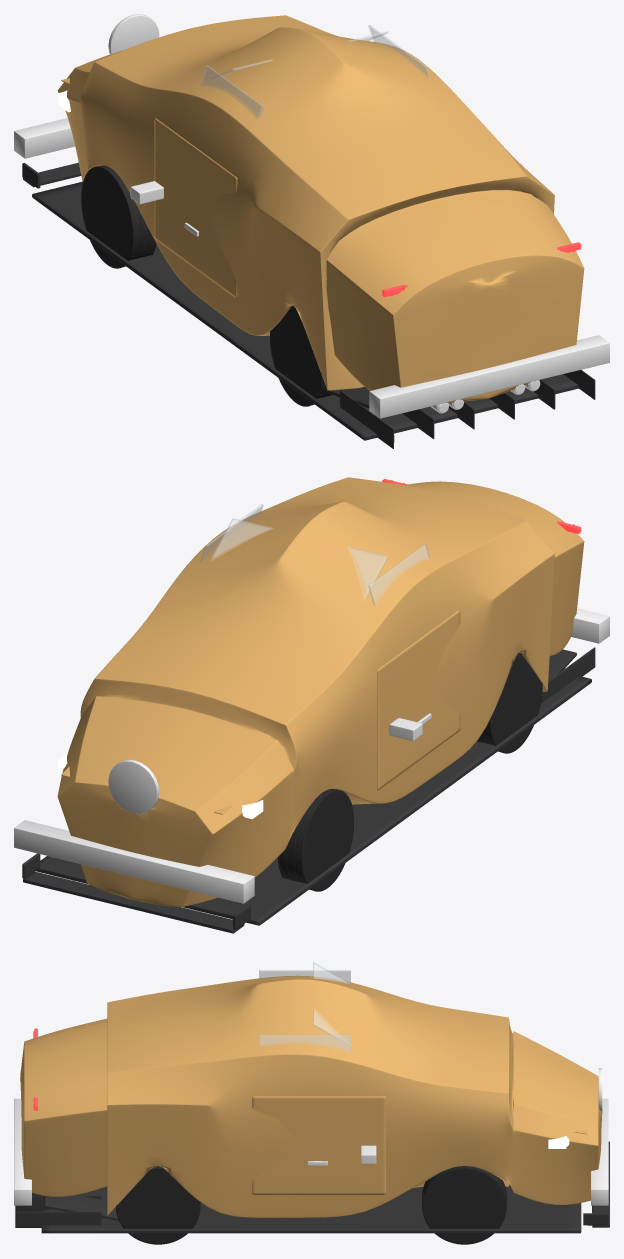
Rendered from Car_Volkswagen_T2_BayWindow_1970s_Complete.glb.
The picture shows the model from 3 angles, top to bottom: view 1: azimuth 30°, elevation 25°; view 2: azimuth 150°, elevation 25°; view 3: azimuth 270°, elevation 25°; orthographic projection. The views are drawn at different scales.
Parts seen in each view (by area): view 1: BODY_MainShell, UNDERBODY_FlatFloor, BODY_Door_FL, JEWELRY_T2_RearBumper, WHEEL_FL_Tire, WHEEL_RL_Tire, GLASS_Greenhouse, JEWELRY_T2_FrontBumper, JEWELRY_T2_VWEmblem, JEWELRY_Hardware, AERO_FrontSplitter; view 2: BODY_MainShell, UNDERBODY_FlatFloor, BODY_Door_FL, JEWELRY_T2_FrontBumper, WHEEL_FL_Tire, GLASS_Greenhouse, WHEEL_RL_Tire, AERO_FrontSplitter, JEWELRY_T2_VWEmblem, JEWELRY_T2_RearBumper, JEWELRY_Hardware; view 3: BODY_MainShell, UNDERBODY_FlatFloor, BODY_Door_FR, WHEEL_FR_Tire, WHEEL_RR_Tire, GLASS_Greenhouse, JEWELRY_T2_FrontBumper, JEWELRY_T2_RearBumper, AERO_FrontSplitter, JEWELRY_Hardware.
Boxes of the visible parts, <box> form: BODY_MainShell: <box>57,15,584,402</box>; UNDERBODY_FlatFloor: <box>32,181,595,448</box>; BODY_Door_FL: <box>154,117,237,298</box>; JEWELRY_T2_RearBumper: <box>369,335,609,418</box>; WHEEL_FL_Tire: <box>81,165,156,268</box>; WHEEL_RL_Tire: <box>269,306,332,406</box>; GLASS_Greenhouse: <box>200,25,429,119</box>; JEWELRY_T2_FrontBumper: <box>14,118,74,158</box>; JEWELRY_T2_VWEmblem: <box>108,14,159,54</box>; JEWELRY_Hardware: <box>130,181,540,413</box>; AERO_FrontSplitter: <box>22,162,81,188</box>; BODY_MainShell: <box>57,477,584,906</box>; UNDERBODY_FlatFloor: <box>35,647,595,925</box>; BODY_Door_FL: <box>377,609,460,790</box>; JEWELRY_T2_FrontBumper: <box>14,820,254,903</box>; WHEEL_FL_Tire: <box>277,789,353,891</box>; GLASS_Greenhouse: <box>200,504,429,605</box>; WHEEL_RL_Tire: <box>477,653,542,753</box>; AERO_FrontSplitter: <box>22,853,250,933</box>; JEWELRY_T2_VWEmblem: <box>108,759,159,813</box>; JEWELRY_T2_RearBumper: <box>571,608,609,643</box>; JEWELRY_Hardware: <box>389,713,431,741</box>; BODY_MainShell: <box>20,975,601,1217</box>; UNDERBODY_FlatFloor: <box>15,1184,581,1233</box>; BODY_Door_FR: <box>252,1096,385,1194</box>; WHEEL_FR_Tire: <box>422,1166,506,1244</box>; WHEEL_RR_Tire: <box>115,1165,200,1244</box>; GLASS_Greenhouse: <box>259,962,351,1052</box>; JEWELRY_T2_FrontBumper: <box>591,1098,608,1205</box>; JEWELRY_T2_RearBumper: <box>14,1098,31,1205</box>; AERO_FrontSplitter: <box>583,1141,609,1227</box>; JEWELRY_Hardware: <box>307,1145,376,1165</box>.
Size of what is drawn, in the model's own units: 2.08 by 1.92 by 4.67.
